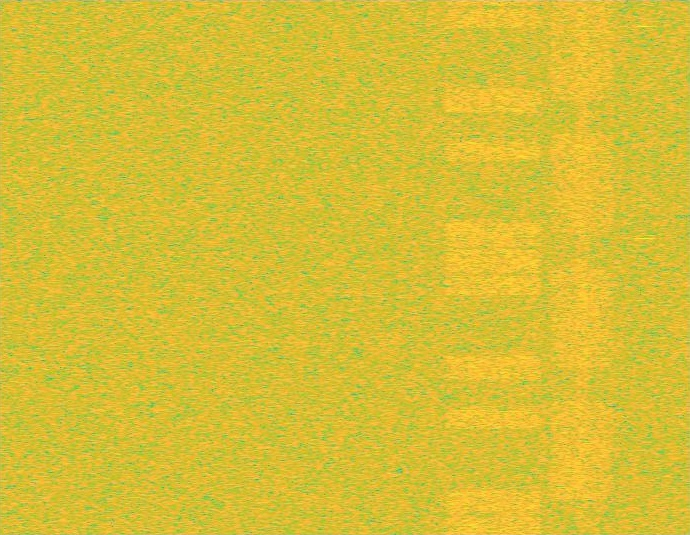5G: (548, 0, 617, 534)
DSSS: (574, 0, 590, 534)
LTE: (442, 0, 545, 534)
Radar: (638, 0, 651, 534)
